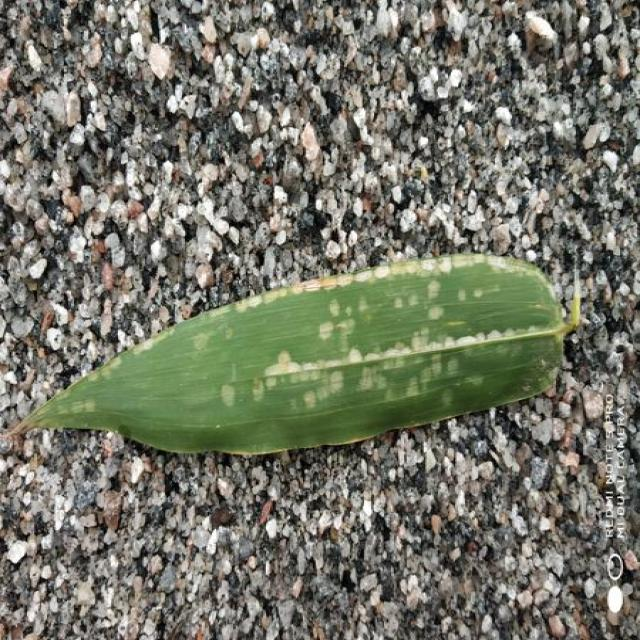Bamboo: (17, 255, 578, 453)
defectedBamboo: (307, 255, 580, 336), (193, 282, 311, 437)
